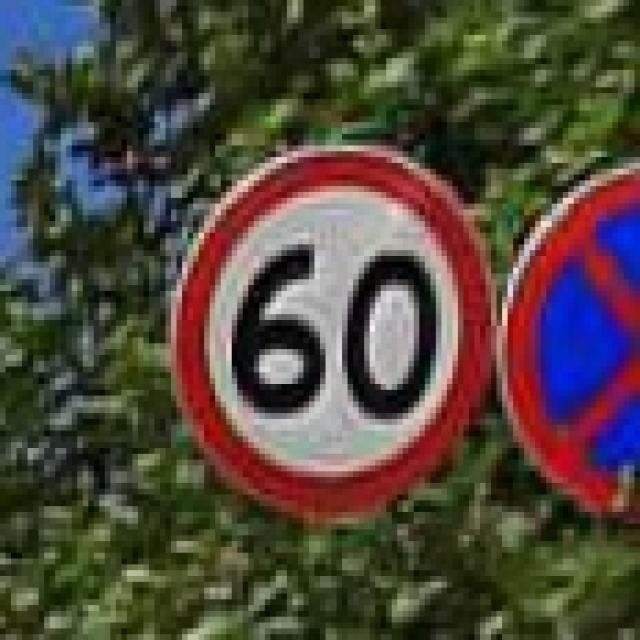Speed Limit -60-: (226, 241, 442, 426)
